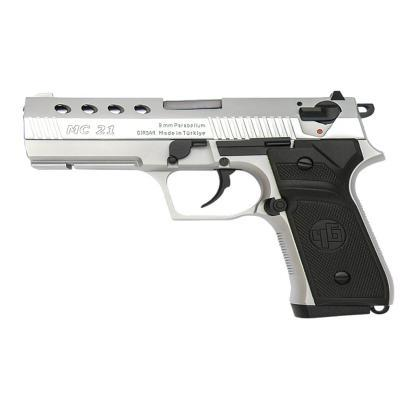Pistol: (17, 85, 399, 320)
